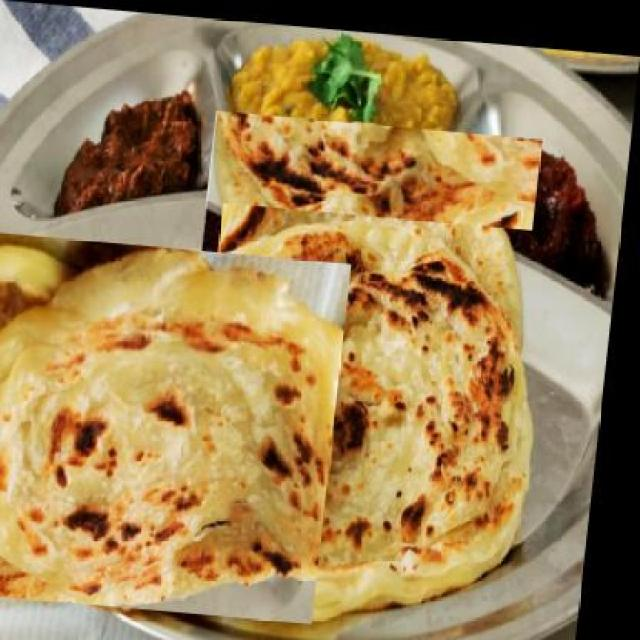chapati: (192, 200, 559, 626), (0, 230, 358, 619), (199, 105, 546, 346)
